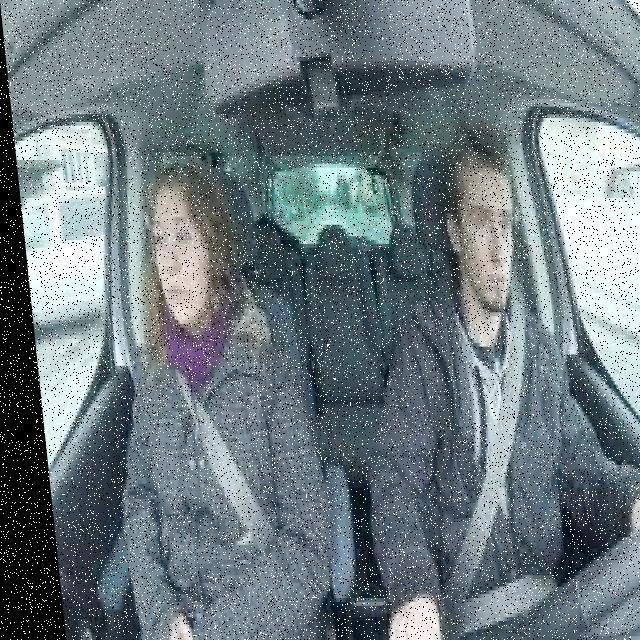seatbelt: (392, 301, 560, 629), (143, 362, 278, 578)
